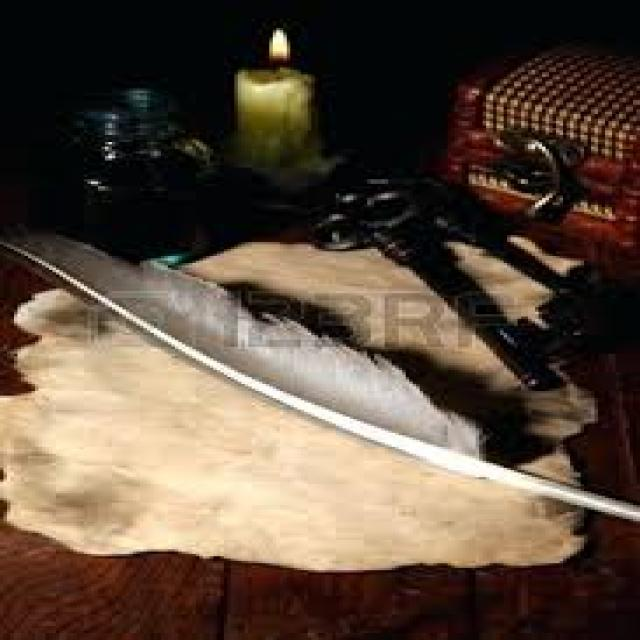fire: (255, 28, 294, 67)
